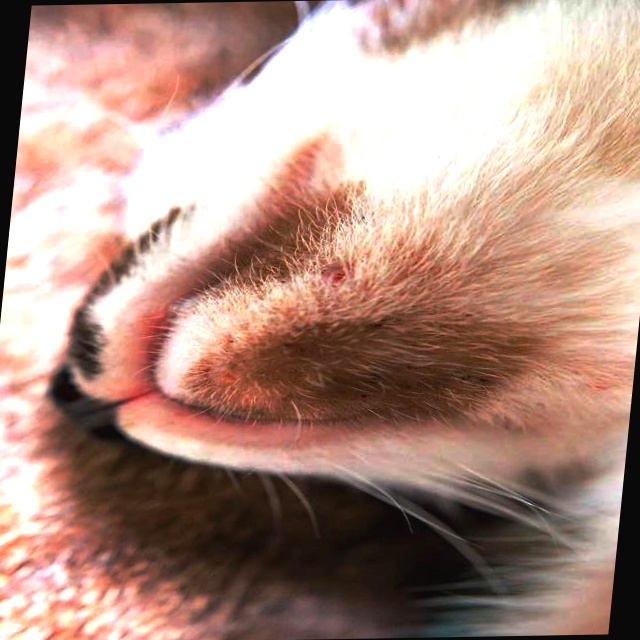acne: (281, 297, 515, 425)
